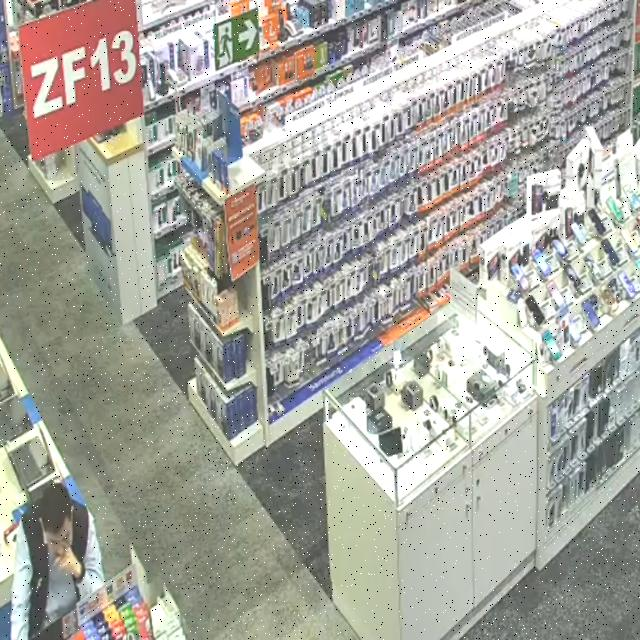hands: (55, 548, 82, 579)
person: (11, 484, 104, 639)
